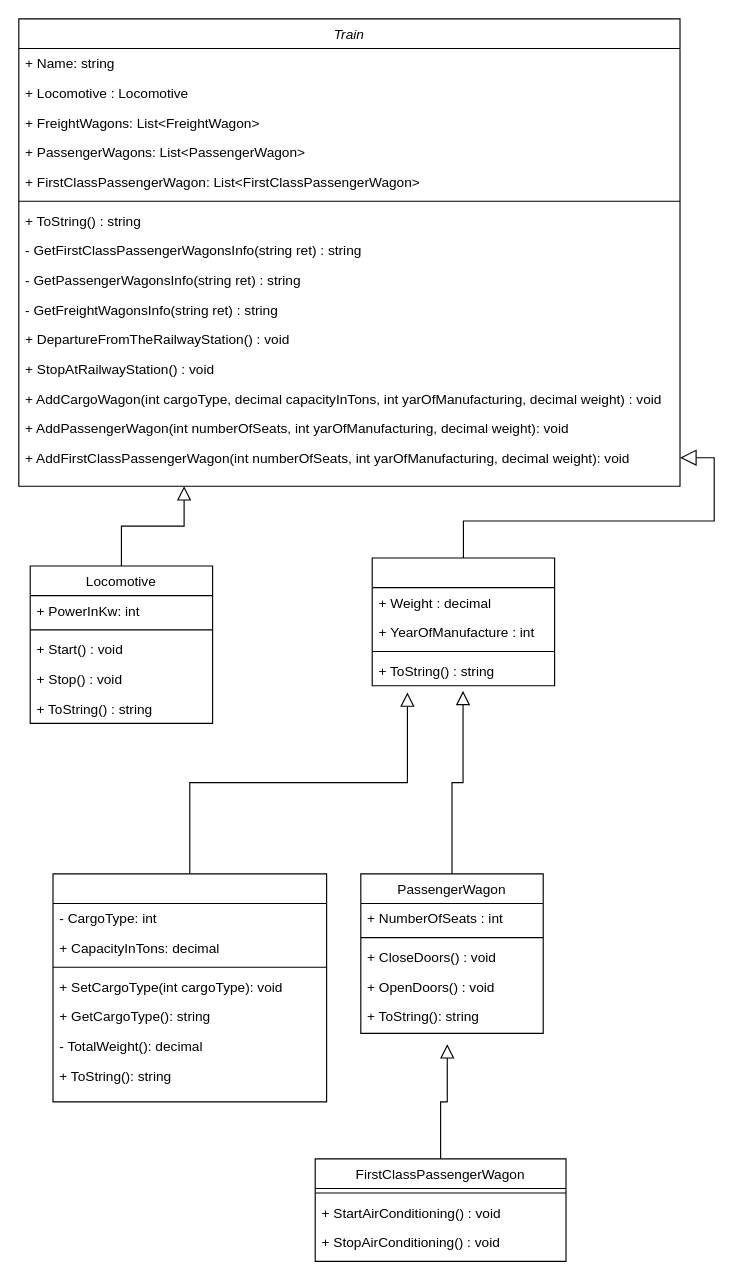
Image size: 733x1280. Some labels were removed from this diagram. The box of each missing label's shape, as (x1, y1, x2, y2) in pixels:
FreightWagon: (52, 873, 327, 1102)
Wagon: (371, 557, 555, 686)
